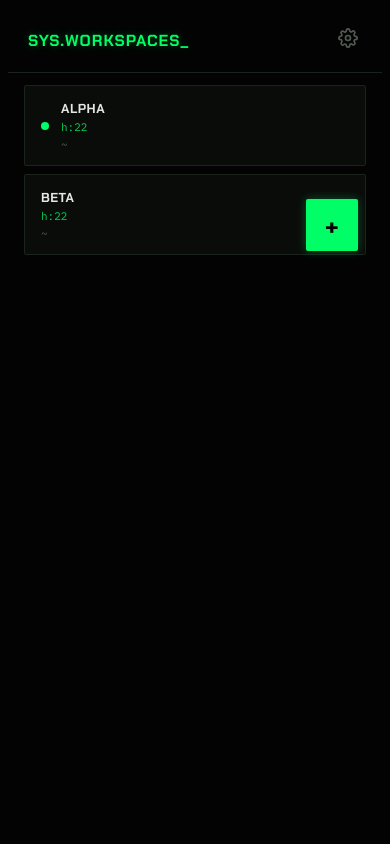
Test: WorkspaceListScreen disconnect › offers Disconnect for a connected workspace and hands it over
This screenshot has width=390, height=844.
Right-click the text "alpha" at (83,108), box x1=61 y1=100 x2=105 y2=117
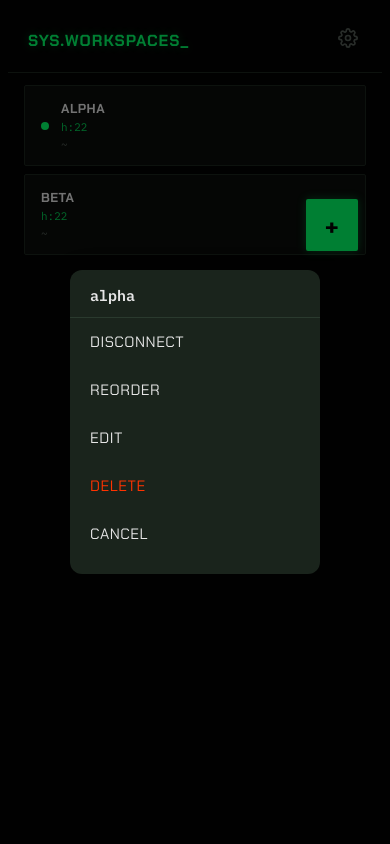
Click the button "Disconnect" at (195,342), box x1=70 y1=318 x2=320 y2=366
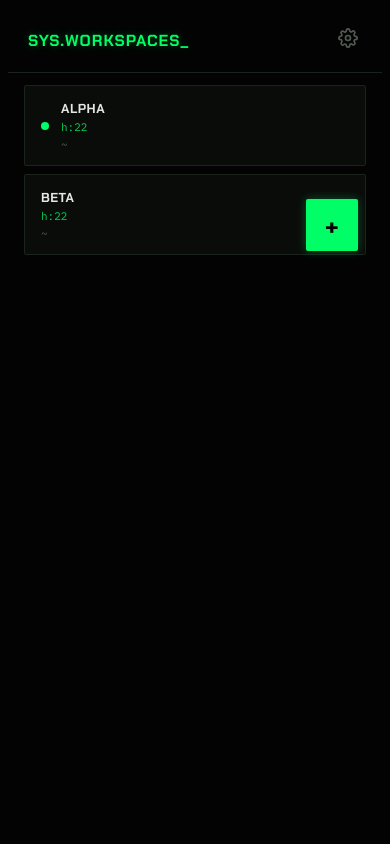
Check: the button "Disconnect" is gone
